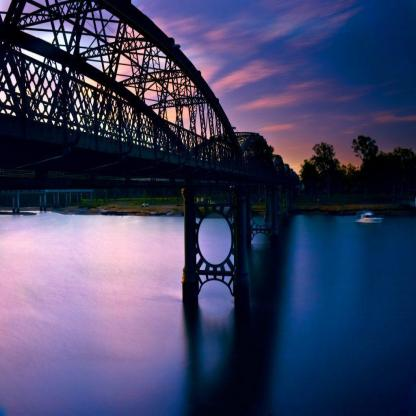other: (103, 31, 212, 128), (275, 150, 307, 178)
